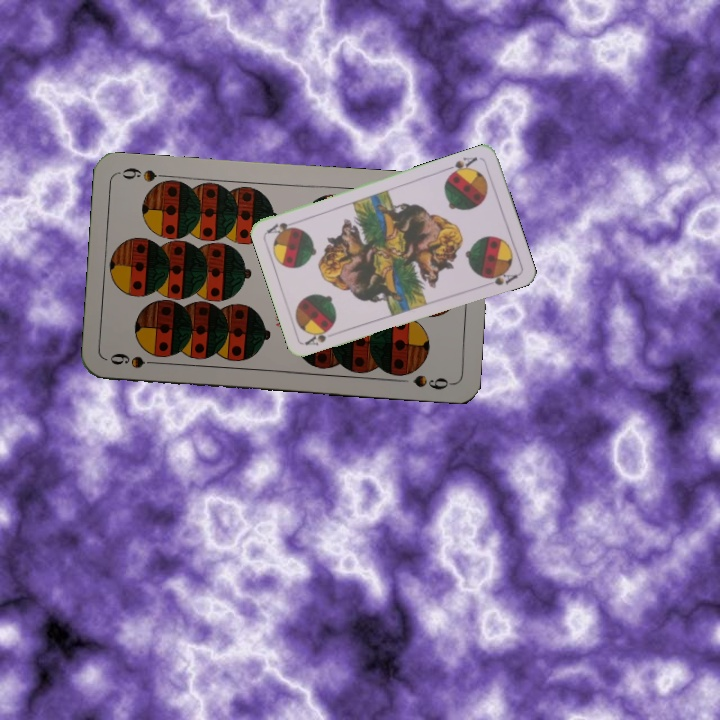S9: (106, 349, 165, 371)
SA: (442, 153, 480, 179), (301, 325, 334, 348)
